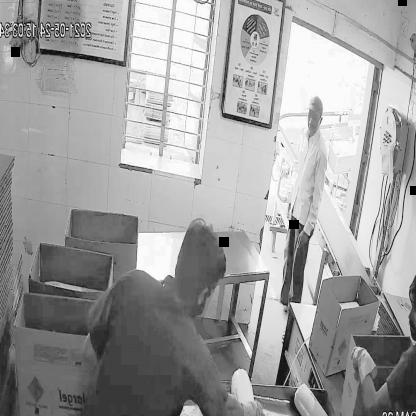no_goggles: (307, 110, 321, 127)
